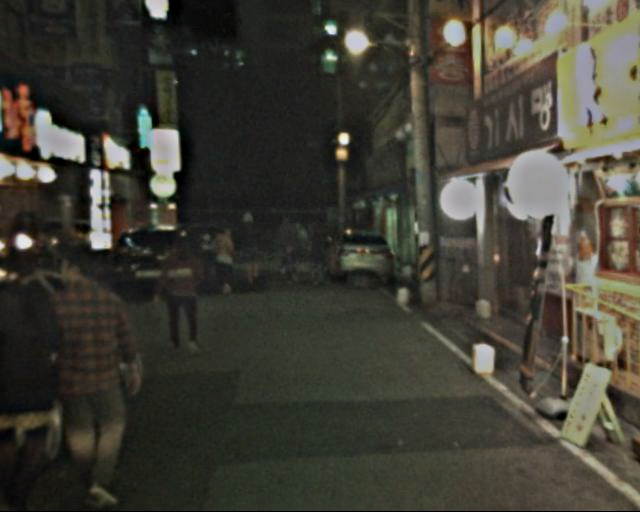person: (35, 245, 148, 503), (159, 233, 208, 358), (208, 218, 240, 297), (235, 211, 267, 289), (276, 217, 304, 285), (305, 220, 332, 287)
